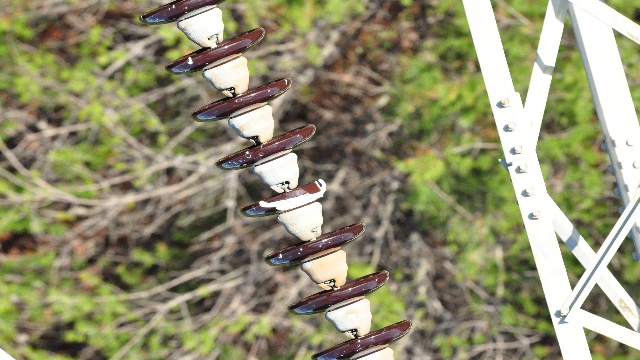broken_local: (258, 176, 329, 213)
insulator_unspecified: (138, 4, 412, 358)
